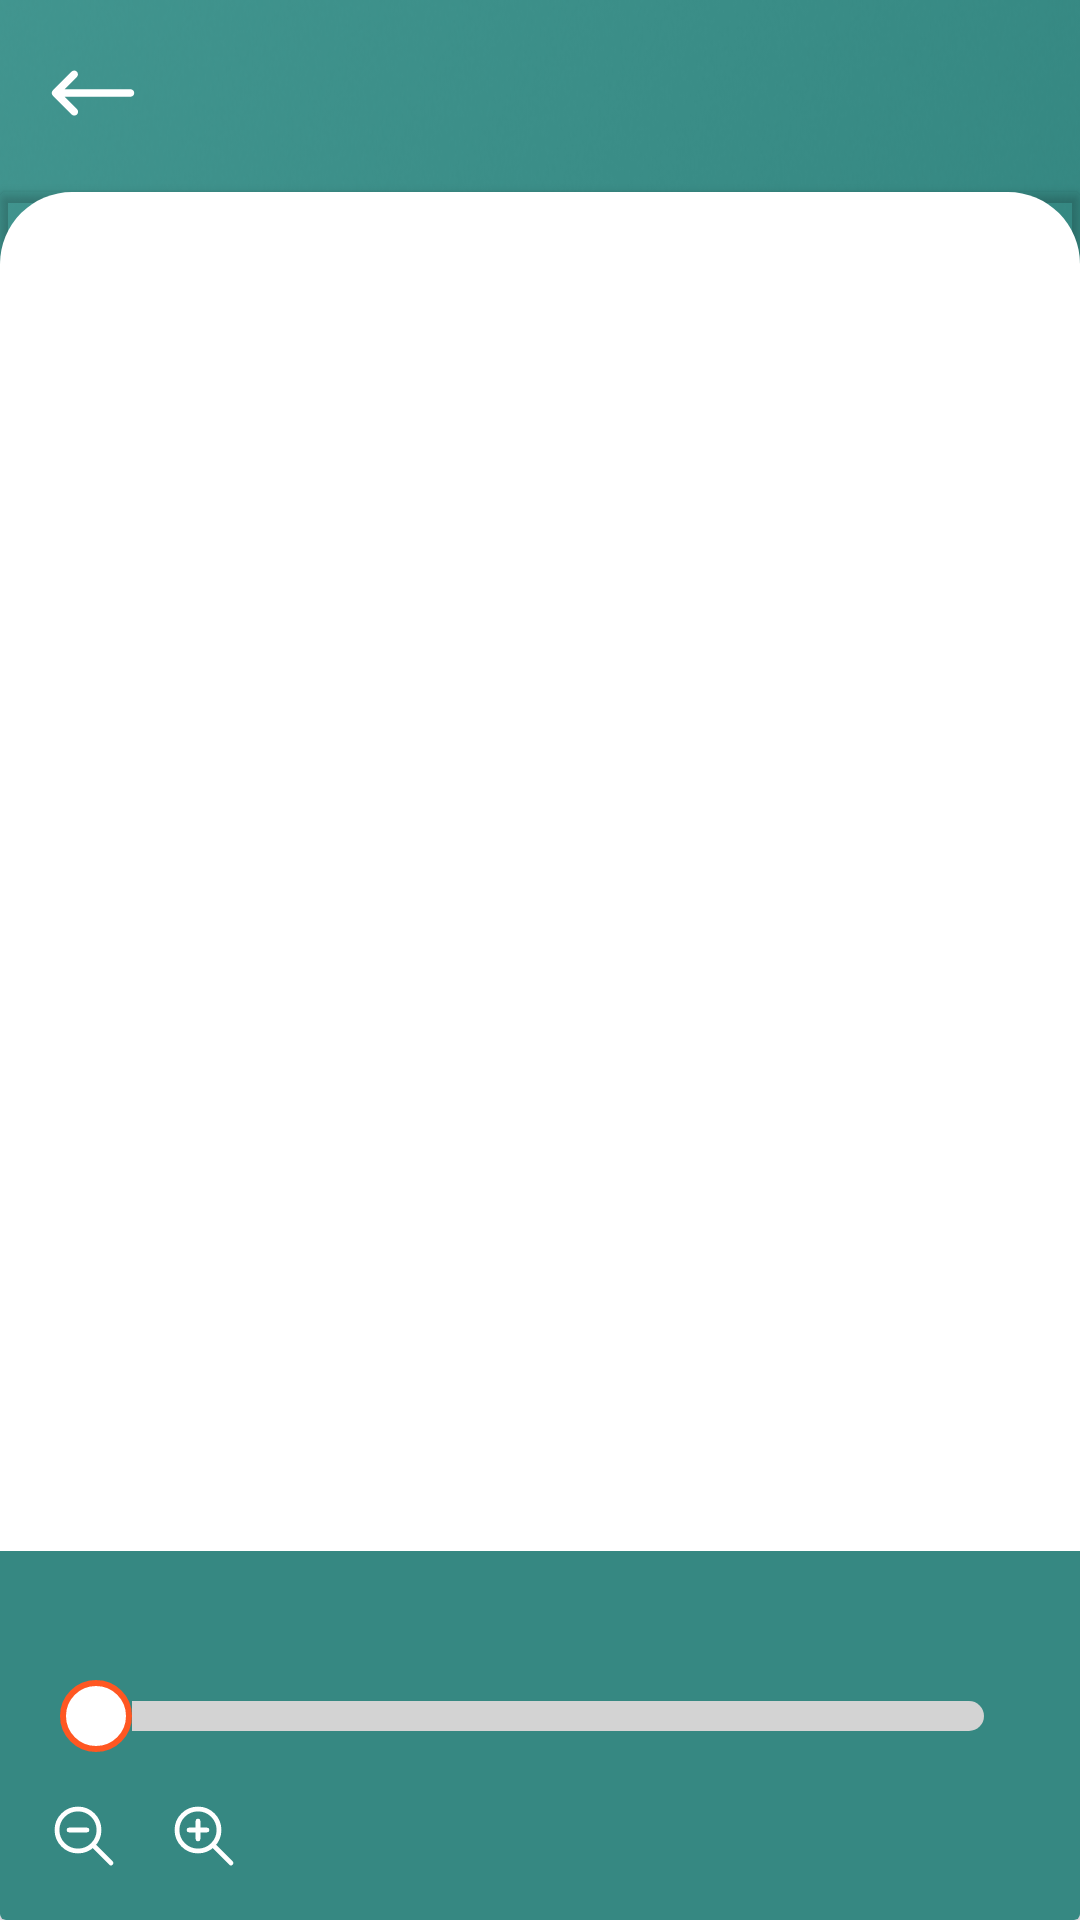

Icons on this 1080 × 1920 Android screen, each with its box as {"x1": x1, "y1": y1, "x2": x2, "y2": y2}:
arrow left: {"x1": 51, "y1": 70, "x2": 134, "y2": 116}
Zoom in button: {"x1": 174, "y1": 1806, "x2": 234, "y2": 1866}
Zoom out button: {"x1": 54, "y1": 1806, "x2": 114, "y2": 1866}
